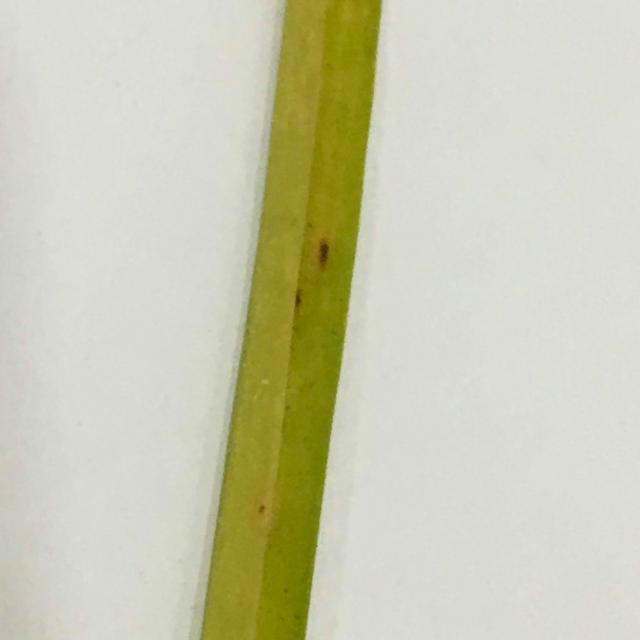brownspots: (314, 236, 339, 277), (252, 499, 280, 529), (289, 282, 310, 316)
